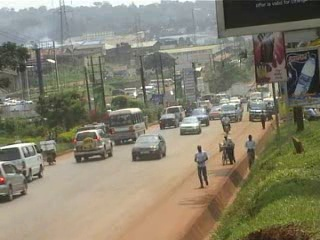Car: (69, 127, 116, 162), (0, 157, 30, 203), (130, 132, 168, 164), (177, 115, 203, 137), (189, 107, 211, 126), (158, 111, 180, 130), (209, 104, 225, 121), (230, 97, 246, 111), (183, 101, 203, 112), (217, 97, 231, 107)
Motorcycle: (40, 136, 61, 168), (220, 116, 231, 137)
